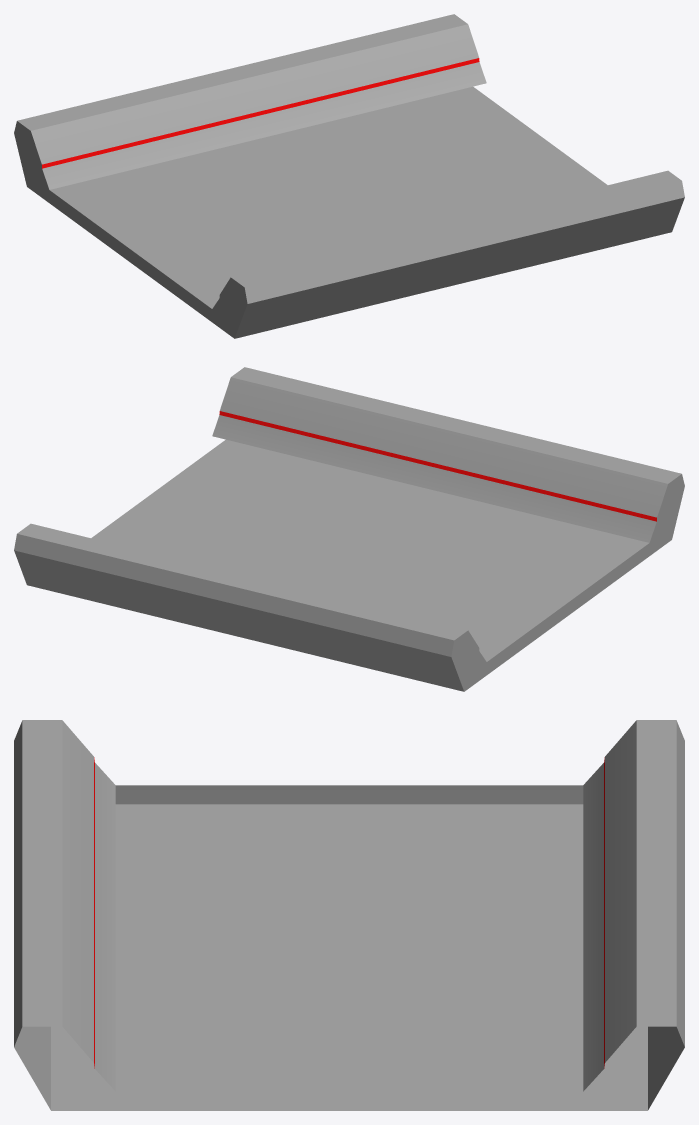
Rendered from transTrackWall.fbx.
3 views of the same model, one above another, from view 1: azimuth 30°, elevation 25°; view 2: azimuth 150°, elevation 25°; view 3: azimuth 270°, elevation 25° (orthographic). The views are drawn at different scales.
Visible parts, largest first — view 1: transTrackWall; view 2: transTrackWall; view 3: transTrackWall.
Part boxes in pixels (x1,y1,x2,y2): transTrackWall: (14,14,684,338); transTrackWall: (14,367,684,691); transTrackWall: (14,720,684,1110).
Bounding box in the file's own units: 0.1876 × 0.0241 × 0.1735.
